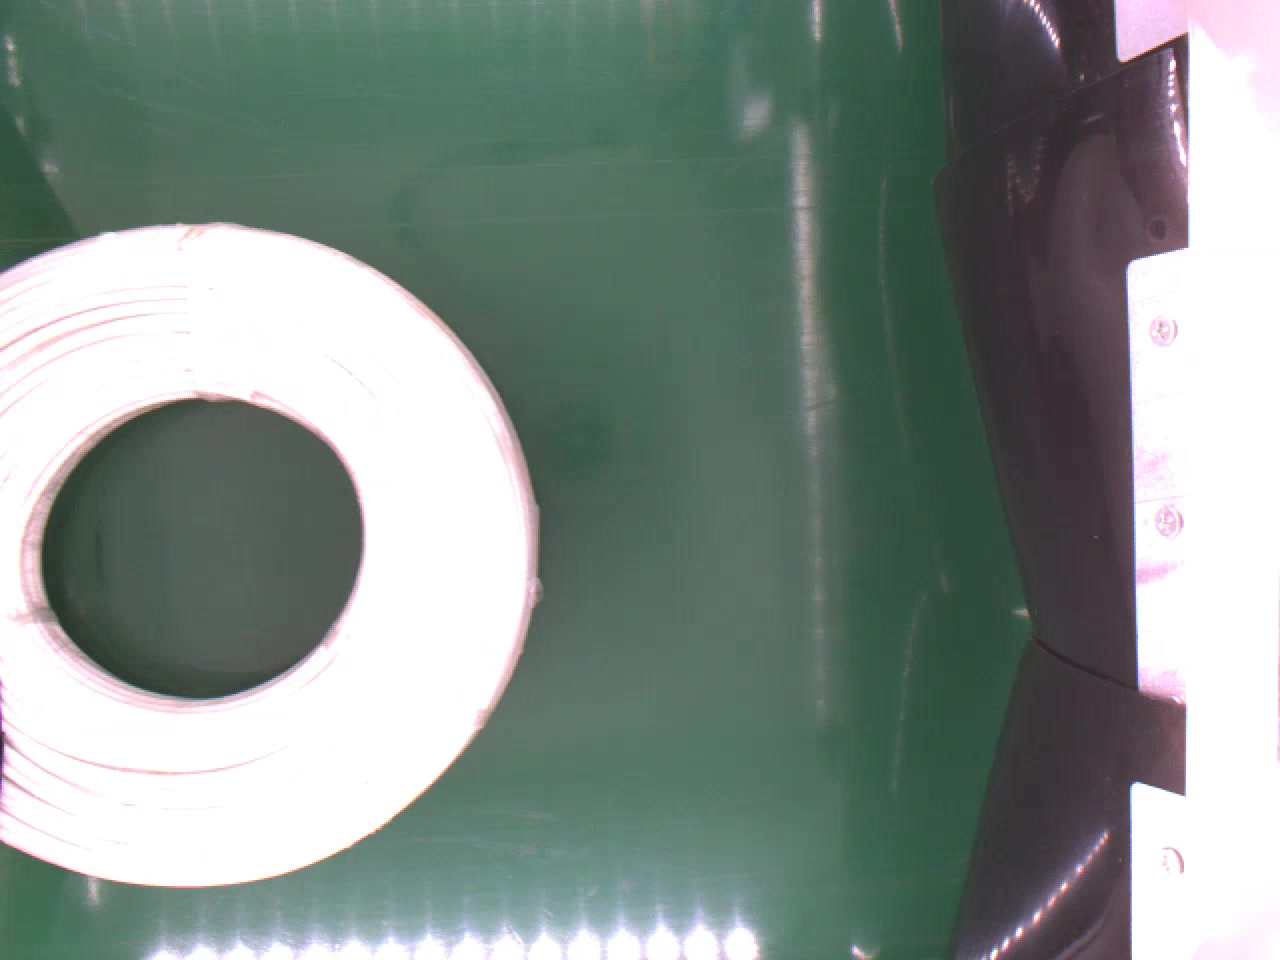white: (0, 220, 541, 889)
